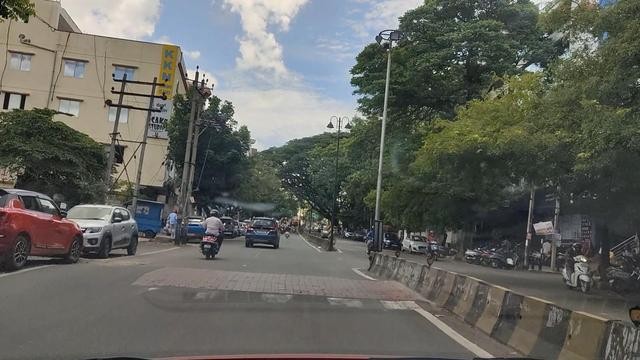SpeedBump: (79, 264, 419, 313)
